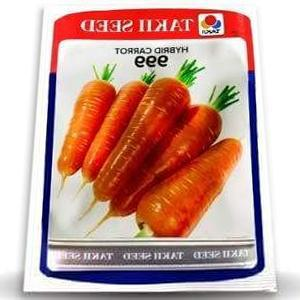carrot: (98, 73, 204, 235), (135, 140, 243, 235), (58, 78, 116, 190)
